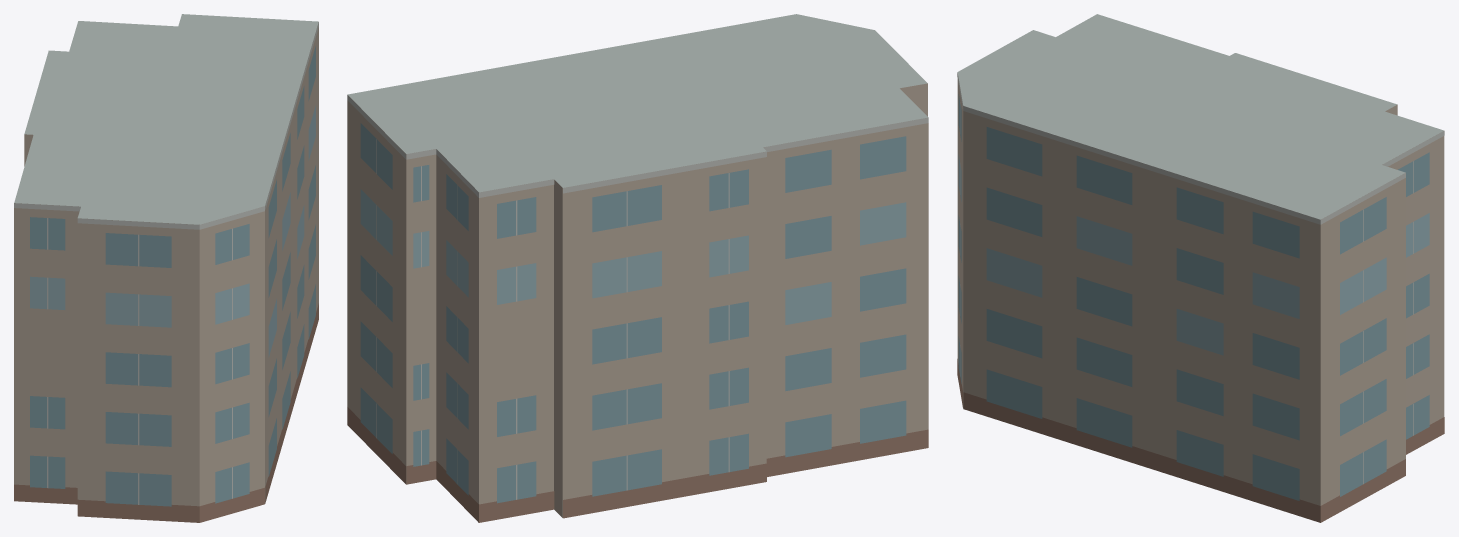
The model's file is survey-upis-32722752.glb.
3 renders of one model, left to right at view 1: azimuth 30°, elevation 25°; view 2: azimuth 150°, elevation 25°; view 3: azimuth 270°, elevation 25°, orthographic. The views are drawn at different scales.
Parts seen in each view (by area): view 1: survey-upis-32722752.tmp; view 2: survey-upis-32722752.tmp; view 3: survey-upis-32722752.tmp.
Part boxes in pixels (x1=…): survey-upis-32722752.tmp: x1=14, y1=14, x2=318, y2=522; survey-upis-32722752.tmp: x1=347, y1=14, x2=928, y2=522; survey-upis-32722752.tmp: x1=957, y1=14, x2=1444, y2=522.
Size of the model in its own units: 21.11 by 14.5 by 21.11.
